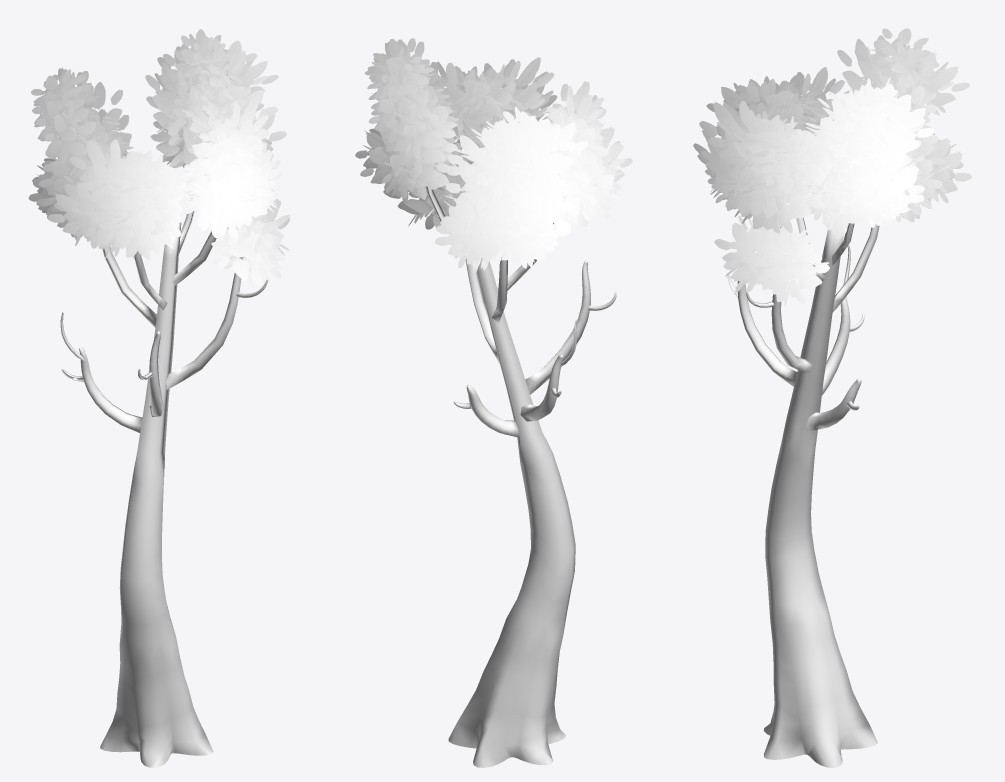
The picture shows the model from 3 angles, left to right: view 1: azimuth 30°, elevation 25°; view 2: azimuth 150°, elevation 25°; view 3: azimuth 270°, elevation 25°; orthographic projection. The views are drawn at different scales.
Parts seen in each view (by area): view 1: CommonTree_4; view 2: CommonTree_4; view 3: CommonTree_4.
Part boxes in pixels (left/top/right/bottom): CommonTree_4: left=28, top=29, right=290, bottom=767; CommonTree_4: left=355, top=38, right=632, bottom=767; CommonTree_4: left=693, top=28, right=971, bottom=767.
Bounding box in the file's own units: 3.83 × 9.44 × 3.76.
2 materials, 1 textured.
